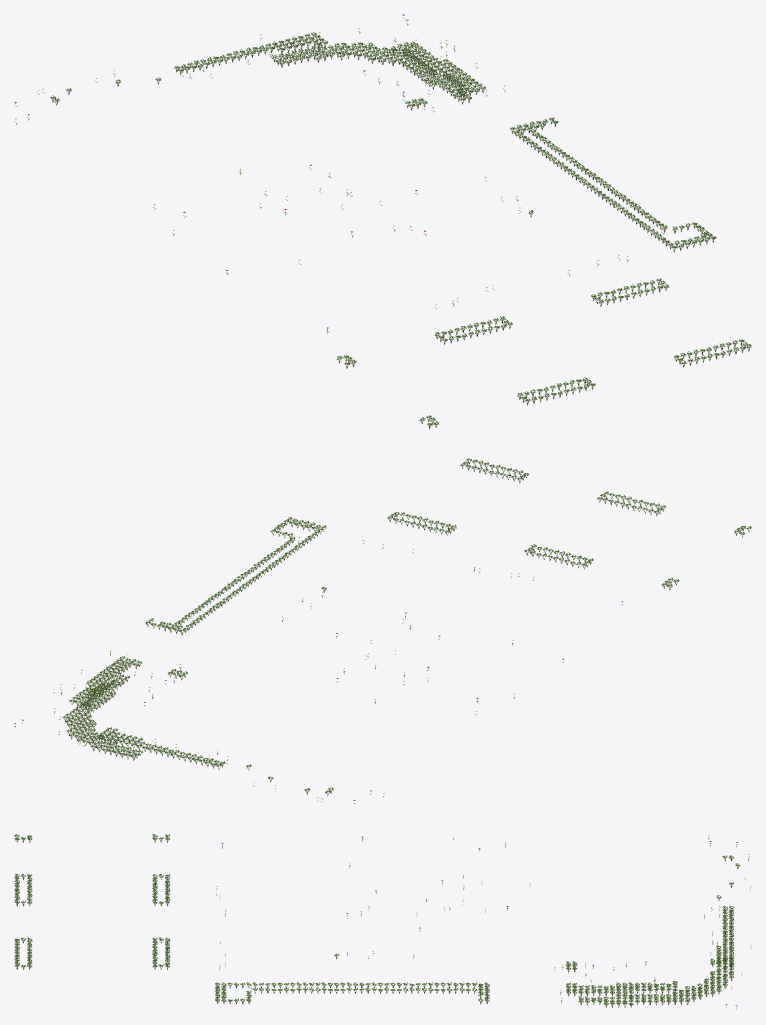
3 renders of one model, top to bottom at view 1: azimuth 30°, elevation 25°; view 2: azimuth 150°, elevation 25°; view 3: azimuth 270°, elevation 25°, orthographic. The views are drawn at different scales.
Parts seen in each view (by area): view 1: GROUND_FLORA_s_-5_1; view 2: GROUND_FLORA_s_-5_1; view 3: GROUND_FLORA_s_-5_1.
Part boxes in pixels (x1,y1,x2,y2): GROUND_FLORA_s_-5_1: [14, 14, 751, 429]; GROUND_FLORA_s_-5_1: [14, 458, 751, 803]; GROUND_FLORA_s_-5_1: [14, 834, 751, 1009].
Size of the model in its own units: 63.05 by 2.97 by 118.
